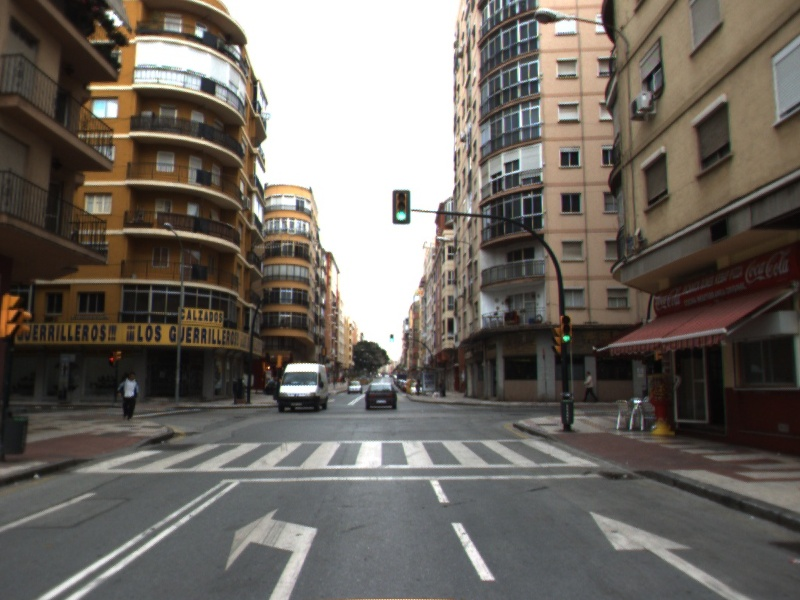LEFT: (223, 507, 320, 600)
STRAIGHT: (587, 510, 755, 600)
